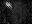person: (5, 2, 11, 8)
